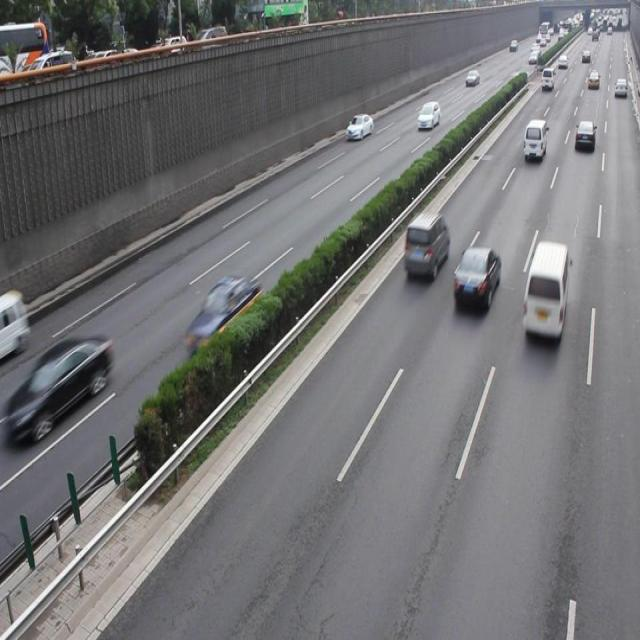car: (14, 333, 112, 441), (185, 274, 263, 352), (403, 211, 448, 278), (452, 247, 499, 310), (1, 287, 30, 360)
truck: (520, 240, 566, 341)
